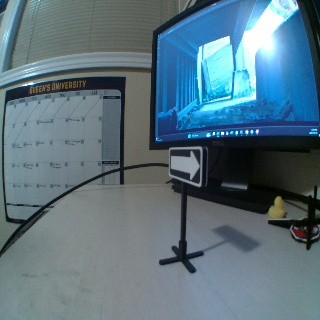sign_oneway_right: (168, 146, 207, 186)
